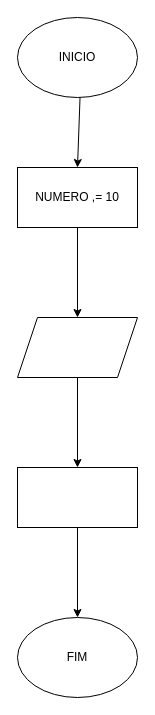
This 155x715 diagram has some shape labels left out. Each missing label, with the centre of its shape:
NUMERO: point 77,347
RESULTADO: point 77,497
